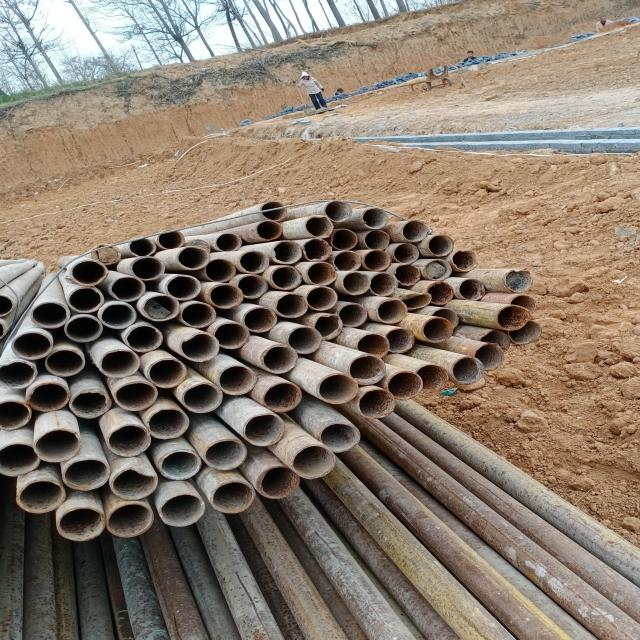pipe: (56, 505, 106, 542), (15, 478, 66, 514), (105, 502, 155, 538), (156, 492, 206, 528), (104, 423, 154, 458), (34, 426, 81, 463), (62, 456, 108, 492), (290, 444, 336, 480), (254, 464, 300, 500), (108, 467, 158, 500), (210, 480, 257, 514), (242, 412, 286, 448), (1, 440, 42, 478), (317, 420, 364, 453), (202, 438, 248, 471), (155, 449, 202, 481), (22, 382, 72, 412), (144, 408, 189, 440), (113, 380, 159, 411), (42, 348, 89, 378), (68, 388, 113, 419), (97, 348, 140, 379), (315, 373, 358, 404), (262, 382, 303, 414), (356, 387, 397, 419), (347, 352, 387, 384), (181, 383, 223, 413), (259, 343, 298, 375), (179, 332, 219, 363), (146, 358, 187, 388), (218, 364, 256, 396), (385, 370, 424, 401), (11, 331, 54, 359), (63, 313, 104, 342), (97, 300, 136, 330), (124, 322, 163, 352), (211, 321, 251, 350), (0, 396, 32, 432), (413, 362, 449, 394), (449, 355, 484, 386), (286, 325, 322, 355), (0, 360, 37, 389), (164, 274, 202, 302), (141, 294, 180, 321), (180, 300, 217, 328), (29, 302, 68, 328), (72, 260, 111, 286), (507, 318, 543, 346), (68, 285, 105, 312), (207, 282, 244, 309), (356, 331, 392, 358), (129, 255, 166, 281), (109, 275, 145, 301), (273, 292, 309, 318), (243, 306, 277, 333), (314, 313, 344, 343), (302, 212, 334, 240), (420, 316, 453, 343), (270, 239, 304, 265), (234, 274, 268, 300), (305, 261, 338, 287), (335, 302, 368, 328), (386, 327, 416, 355), (474, 342, 504, 370), (204, 258, 236, 284), (375, 298, 407, 324), (237, 249, 270, 274), (269, 265, 302, 290), (496, 305, 529, 330), (176, 246, 210, 270), (502, 268, 533, 294), (305, 286, 338, 310), (341, 270, 371, 296), (479, 329, 511, 353), (370, 271, 398, 298), (324, 198, 352, 224), (302, 238, 332, 262), (127, 236, 159, 258), (426, 281, 454, 306), (458, 277, 486, 302), (361, 207, 390, 231), (332, 250, 362, 273), (401, 218, 429, 242), (331, 227, 358, 251), (364, 228, 391, 252), (156, 228, 185, 250), (259, 200, 288, 222), (428, 234, 454, 258), (452, 248, 478, 272), (424, 259, 452, 281), (432, 308, 459, 330), (393, 242, 420, 264), (509, 294, 536, 316), (394, 264, 420, 286), (401, 292, 432, 310), (216, 232, 242, 252), (256, 220, 282, 240)
